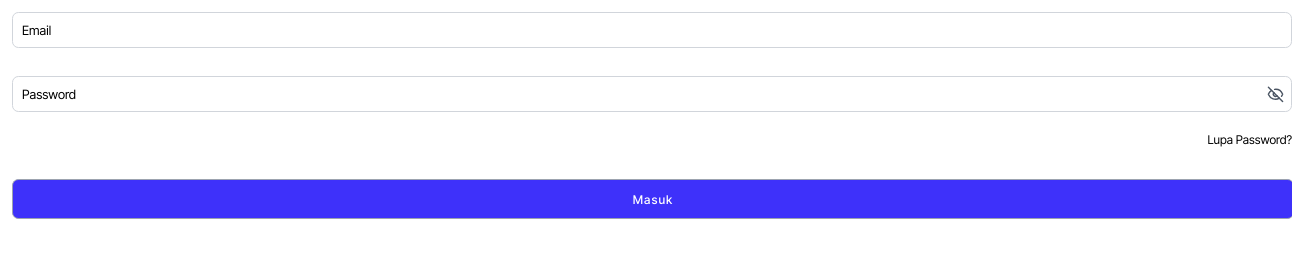
Test: LoginView Component › shows an error message when login fails
The image size is (1304, 268).
// Fill out the form
Type "wrong@example.com" into the field labelled "email". click: [652, 30]
box: top-left (12, 12), bottom-right (1292, 48)
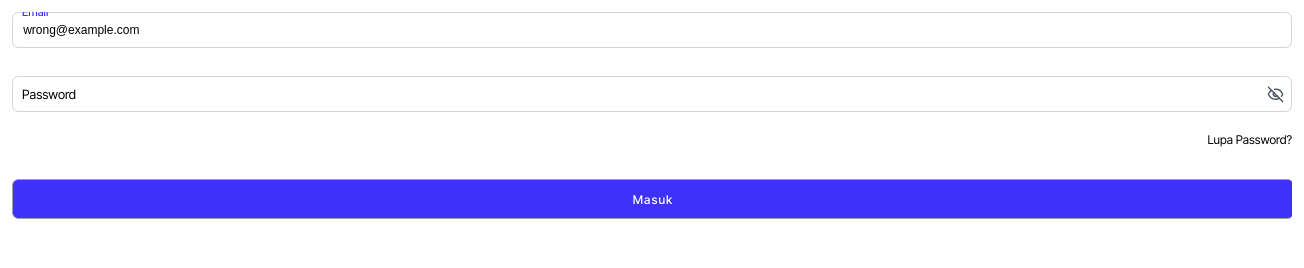
Type "wrongpassword" into the password field labelled "password". click: [652, 94]
box: top-left (12, 76), bottom-right (1292, 112)
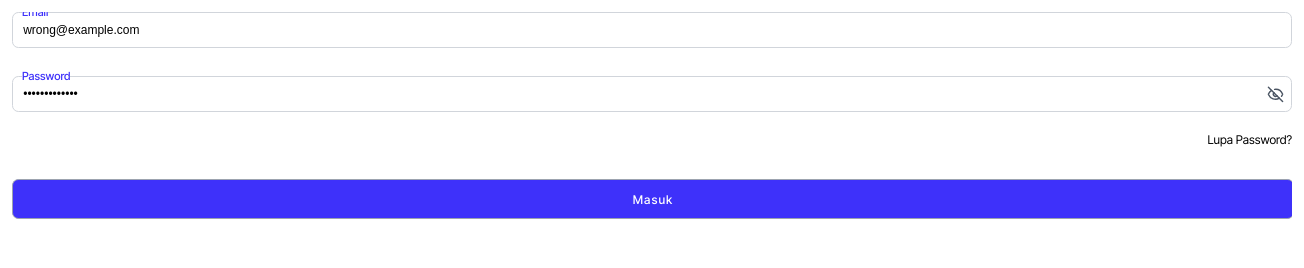
// Submit the form
Click the button "Masuk". click: [652, 199]
box: top-left (12, 179), bottom-right (1292, 219)
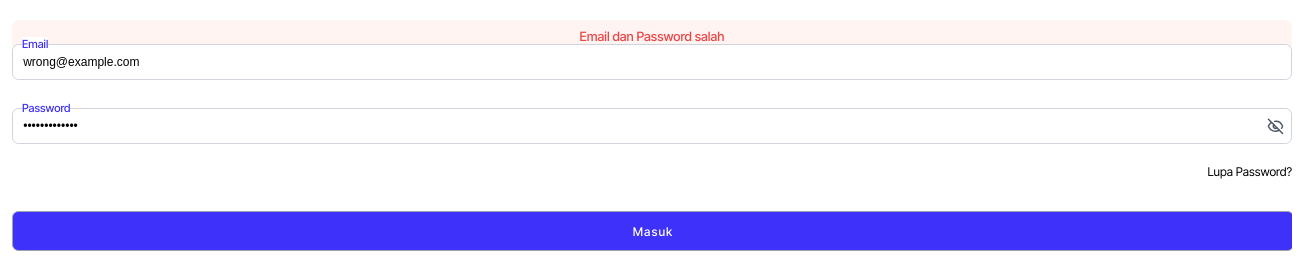
Now the text "Email dan Password salah" is shown, box top-left (580, 28), bottom-right (724, 44)
